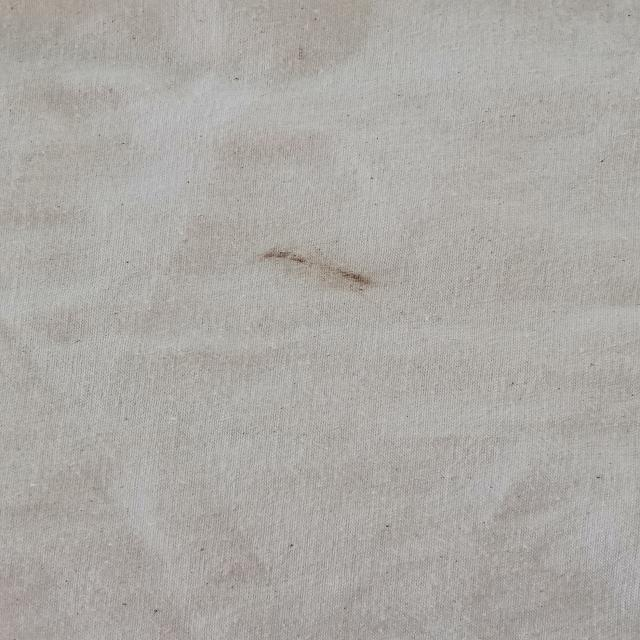taaaches: (236, 235, 386, 298)
